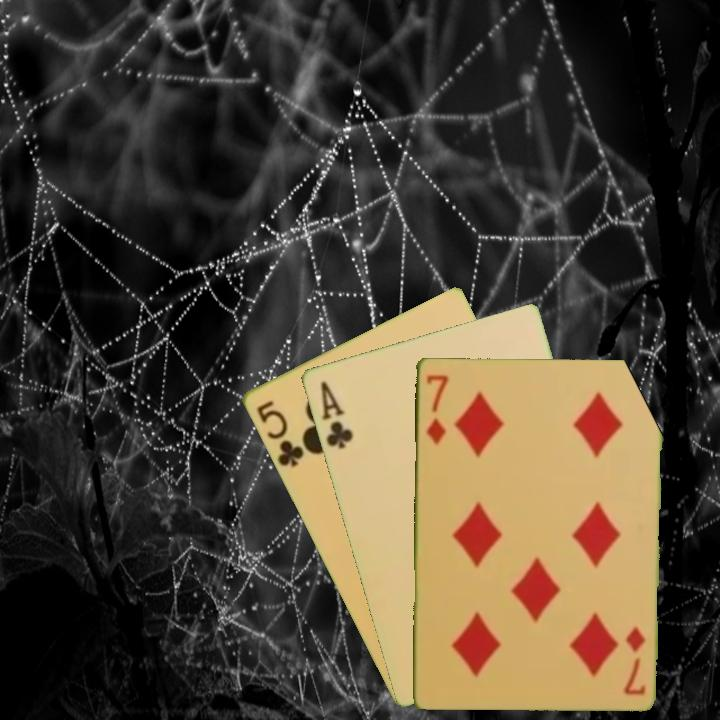5c: (253, 396, 307, 470)
7d: (422, 370, 451, 447), (621, 622, 648, 697)
Ac: (316, 377, 356, 452)
